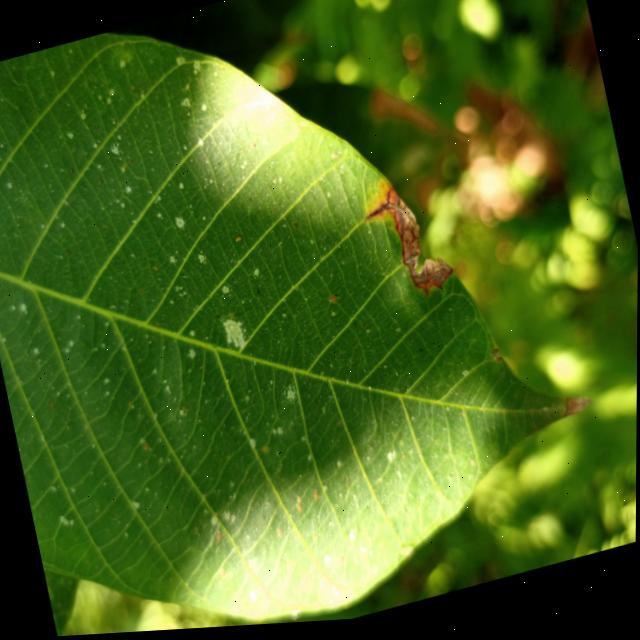Corynespora: (364, 207, 390, 225)
